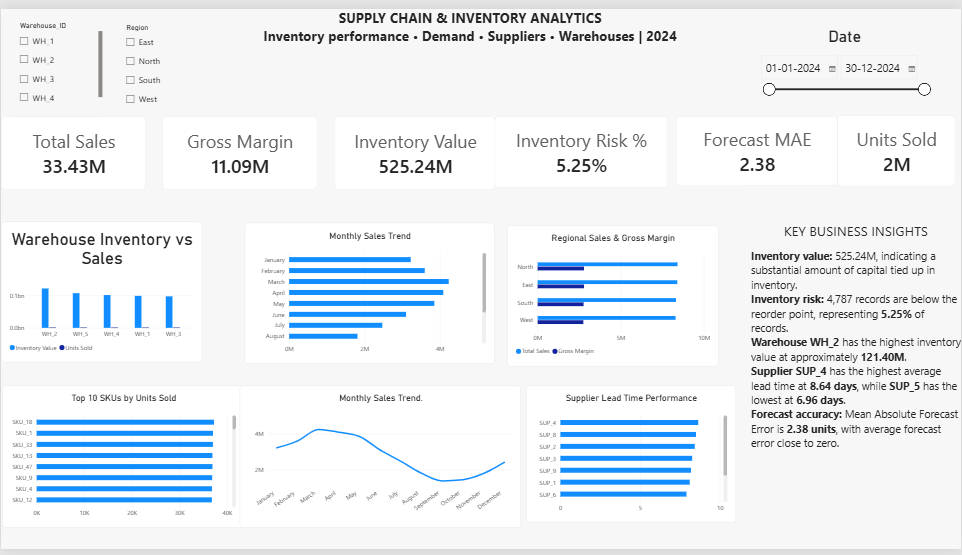

This screenshot's page, from the dashboard's own definition file:
{"tool":"powerbi","page":{"name":"Page 1","canvas":[1920,1080],"ordinal":0},"visuals":[{"type":"cardVisual","fields":{"Data":["supply_chain_dataset1.Total Sales"]},"box":[0,215,290.2,146.1],"z":0},{"type":"cardVisual","fields":{"Data":["supply_chain_dataset1.Gross Margin"]},"box":[322.5,215,310.8,146.1],"z":1000},{"type":"cardVisual","fields":{"Data":["supply_chain_dataset1.Inventory Value"]},"box":[667.5,215,321.1,146.1],"z":2000},{"type":"cardVisual","fields":{"Data":["supply_chain_dataset1.Units Sold"]},"box":[1672.5,212.5,236.7,142],"z":3000},{"type":"cardVisual","fields":{"Data":["supply_chain_dataset1.Inventory Risk %"]},"box":[987.5,215,345.8,142],"z":4000},{"type":"cardVisual","fields":{"Data":["supply_chain_dataset1.Forecast MAE"]},"box":[1350,215,323.2,140],"z":5000},{"type":"clusteredColumnChart","title":"Warehouse Inventory vs Sales","fields":{"Category":["supply_chain_dataset1.Warehouse_ID"],"Y":["supply_chain_dataset1.Inventory Value","supply_chain_dataset1.Units Sold"]},"box":[0,425,402.5,282.5],"z":6000},{"type":"clusteredBarChart","title":"Regional Sales & Gross Margin","fields":{"Category":["supply_chain_dataset1.Region"],"Y":["supply_chain_dataset1.Total Sales","supply_chain_dataset1.Gross Margin"]},"box":[1012.5,432.5,422.5,282.5],"z":7000},{"type":"clusteredBarChart","title":"Monthly Sales Trend","fields":{"Category":["supply_chain_dataset1.Date.Variation.Date Hierarchy.Year","supply_chain_dataset1.Date.Variation.Date Hierarchy.Month"],"Y":["supply_chain_dataset1.Total Sales"]},"box":[487.5,427.5,500,282.5],"z":8000},{"type":"clusteredBarChart","title":"Supplier Lead Time Performance","fields":{"Category":["supply_chain_dataset1.Supplier_ID"],"Y":["supply_chain_dataset1.Average Lead Time"]},"box":[1050,752.5,420,275],"z":9000},{"type":"clusteredBarChart","title":"Top 10 SKUs by Units Sold","fields":{"Category":["supply_chain_dataset1.SKU_ID"],"Y":["supply_chain_dataset1.Units Sold"]},"box":[2.5,752.5,485,285],"z":10000},{"type":"lineChart","title":"Monthly Sales Trend.","fields":{"Category":["supply_chain_dataset1.Date.Variation.Date Hierarchy.Year","supply_chain_dataset1.Date.Variation.Date Hierarchy.Month"],"Y":["supply_chain_dataset1.Total Sales"]},"box":[477.5,752.5,562.5,285],"z":11000},{"type":"slicer","title":"Date","fields":{"Values":["supply_chain_dataset1.Date"]},"box":[1512.5,35,350,160],"z":12000},{"type":"slicer","fields":{"Values":["supply_chain_dataset1.Warehouse_ID"]},"box":[30,25,172.5,177.5],"z":13000},{"type":"slicer","fields":{"Values":["supply_chain_dataset1.Region"]},"box":[242.5,27.5,157.5,177.5],"z":14000},{"type":"textbox","box":[376.7,0,1121.8,78.2],"z":15000},{"type":"textbox","box":[1500,425,420,577.5],"z":15001}]}

Visuals, with their boxes in screenshot pixels (x1, y1, x2, y2), scaled from the page's 1920x1080 canvas onto the 962x555 screenshot:
cardVisual - supply_chain_dataset1.Total Sales: [left=0, top=110, right=145, bottom=186]
cardVisual - supply_chain_dataset1.Gross Margin: [left=162, top=110, right=317, bottom=186]
cardVisual - supply_chain_dataset1.Inventory Value: [left=334, top=110, right=495, bottom=186]
cardVisual - supply_chain_dataset1.Units Sold: [left=838, top=109, right=957, bottom=182]
cardVisual - supply_chain_dataset1.Inventory Risk %: [left=495, top=110, right=668, bottom=183]
cardVisual - supply_chain_dataset1.Forecast MAE: [left=676, top=110, right=838, bottom=182]
"Warehouse Inventory vs Sales" clusteredColumnChart: [left=0, top=218, right=202, bottom=364]
"Regional Sales & Gross Margin" clusteredBarChart: [left=507, top=222, right=719, bottom=367]
"Monthly Sales Trend" clusteredBarChart: [left=244, top=220, right=495, bottom=365]
"Supplier Lead Time Performance" clusteredBarChart: [left=526, top=387, right=737, bottom=528]
"Top 10 SKUs by Units Sold" clusteredBarChart: [left=1, top=387, right=244, bottom=533]
"Monthly Sales Trend." lineChart: [left=239, top=387, right=521, bottom=533]
"Date" slicer: [left=758, top=18, right=933, bottom=100]
slicer - supply_chain_dataset1.Warehouse_ID: [left=15, top=13, right=101, bottom=104]
slicer - supply_chain_dataset1.Region: [left=122, top=14, right=200, bottom=105]
textbox: [left=189, top=0, right=751, bottom=40]
textbox: [left=752, top=218, right=961, bottom=515]
